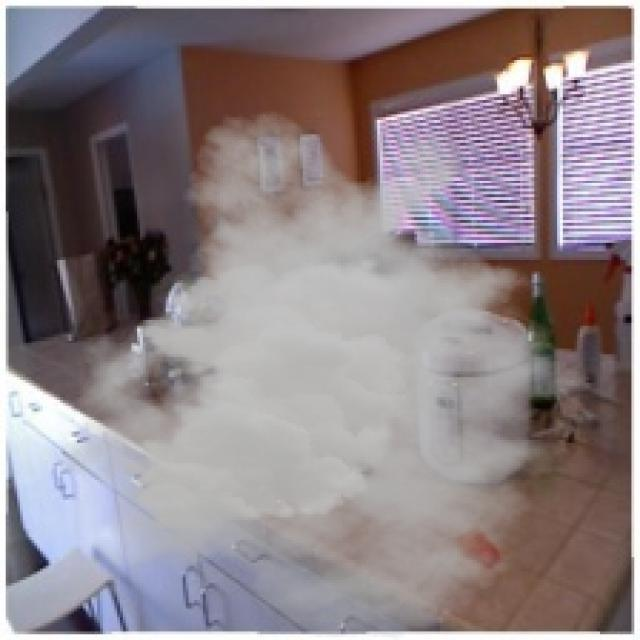Smoke: (60, 108, 620, 638)
